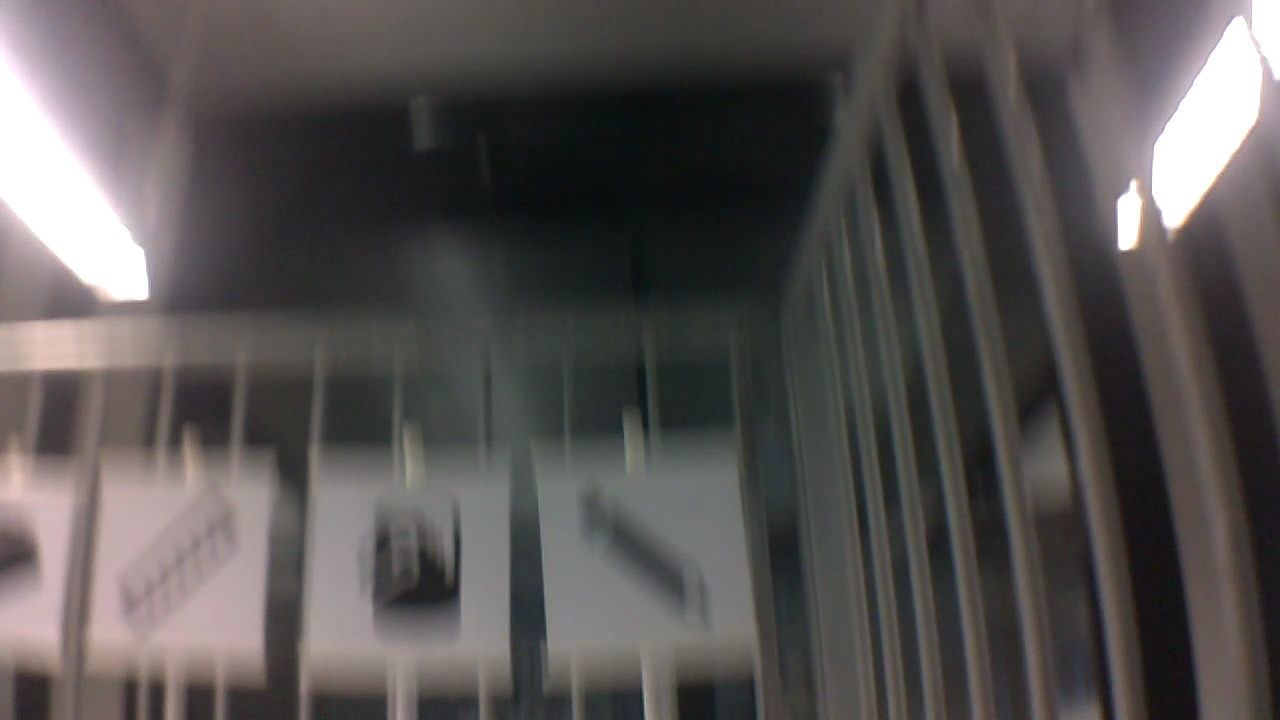bucket: (343, 489, 470, 643)
pencil: (560, 479, 716, 629)
